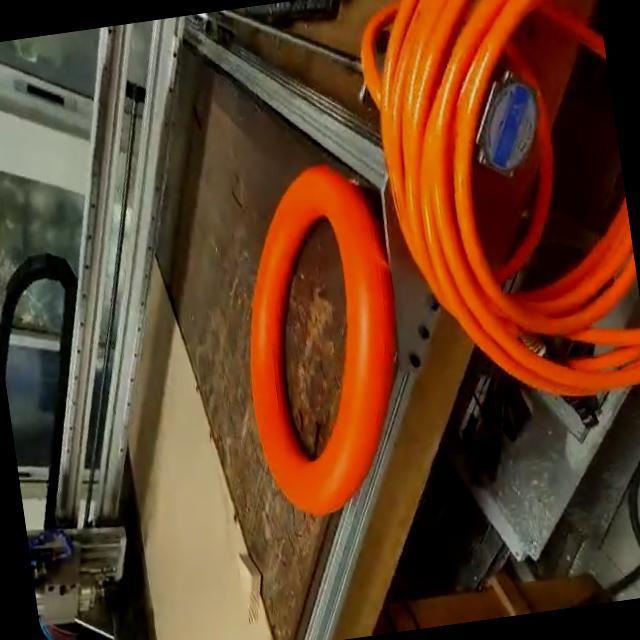note: (217, 152, 426, 530)
